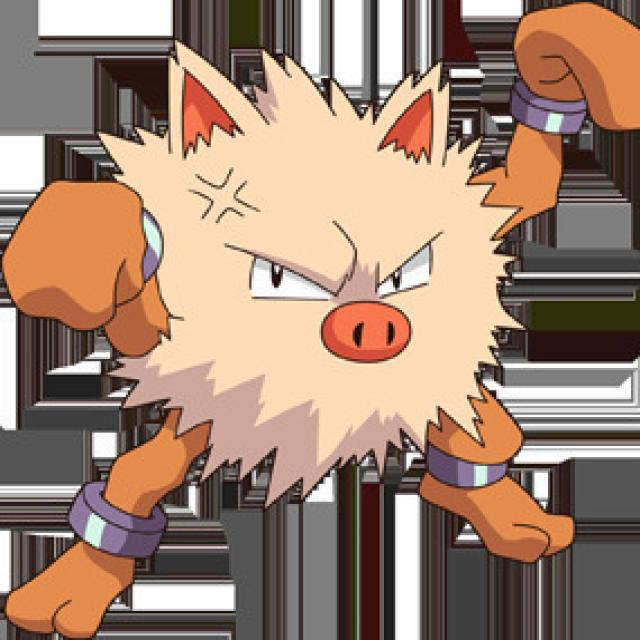Primeape: (79, 68, 570, 560)
